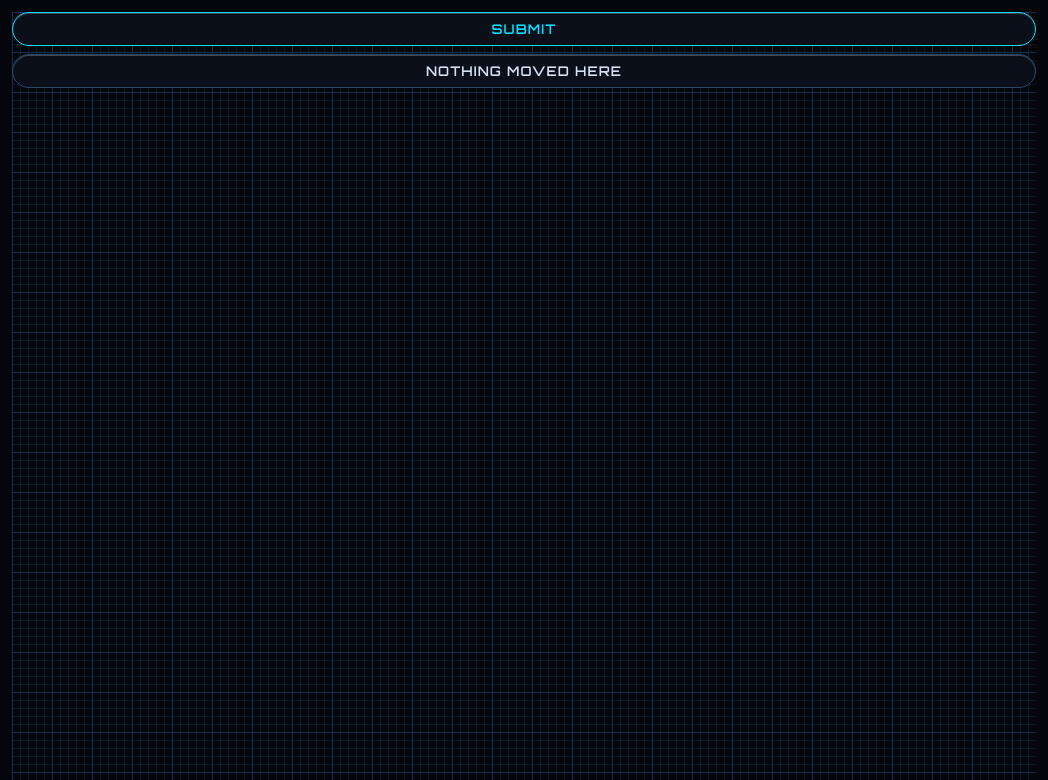
SubmitBar › blocks Submit with the player-facing validation message and never calls the server
Click the button "Submit" at (524, 29), box 12,12 -> 1036,46
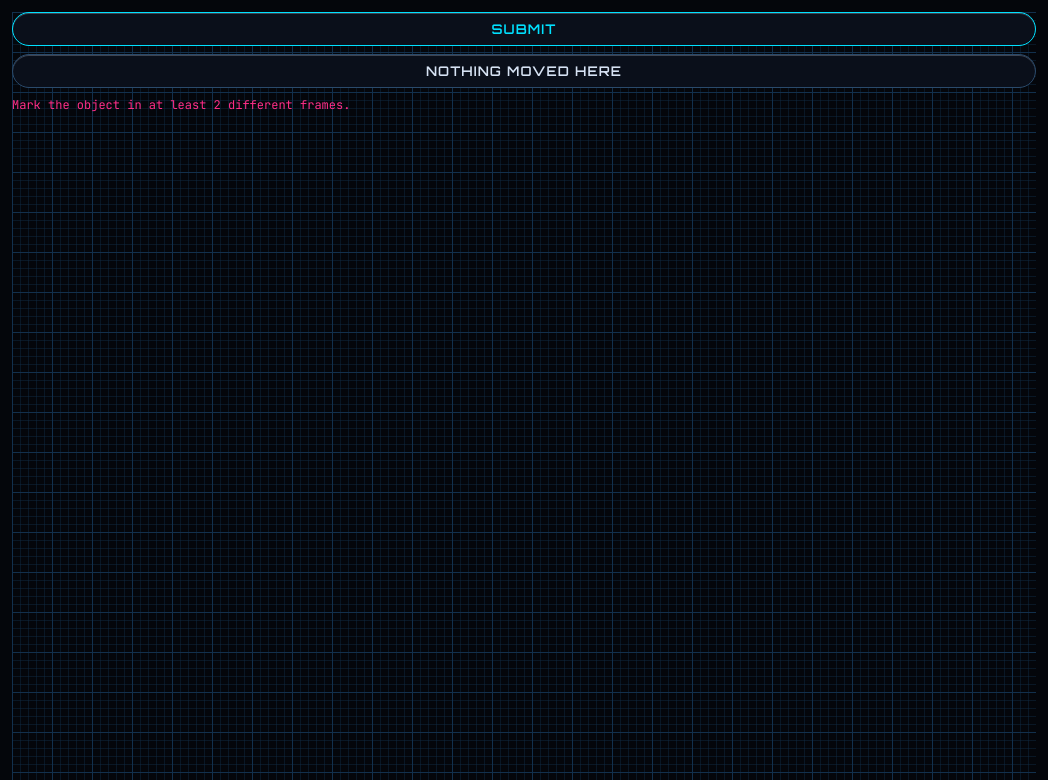
Check: the message reads "Mark the object in at least 2 different frames.", box 12,97 -> 350,113
